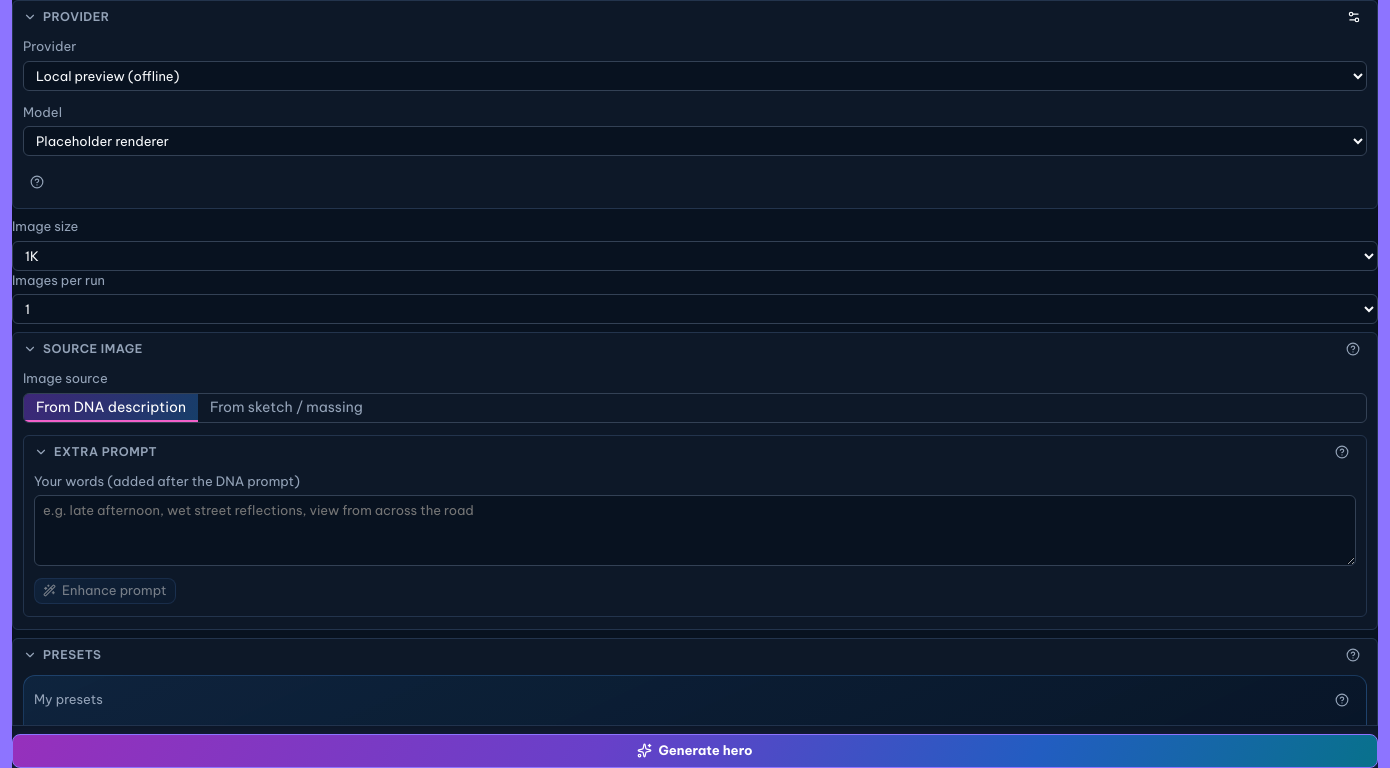
uses text-only DNA, and shows image import and SketchUp only for the image source
expect the text box is shown: met, box x1=34 y1=495 x2=1356 y2=566
expect the button "Import sketch" is not shown: met
What coordinates should you click on to do the following:
click the button "From sketch / massing"
I would click on:
 (286, 408)
Its box is x1=198 y1=394 x2=375 y2=422.
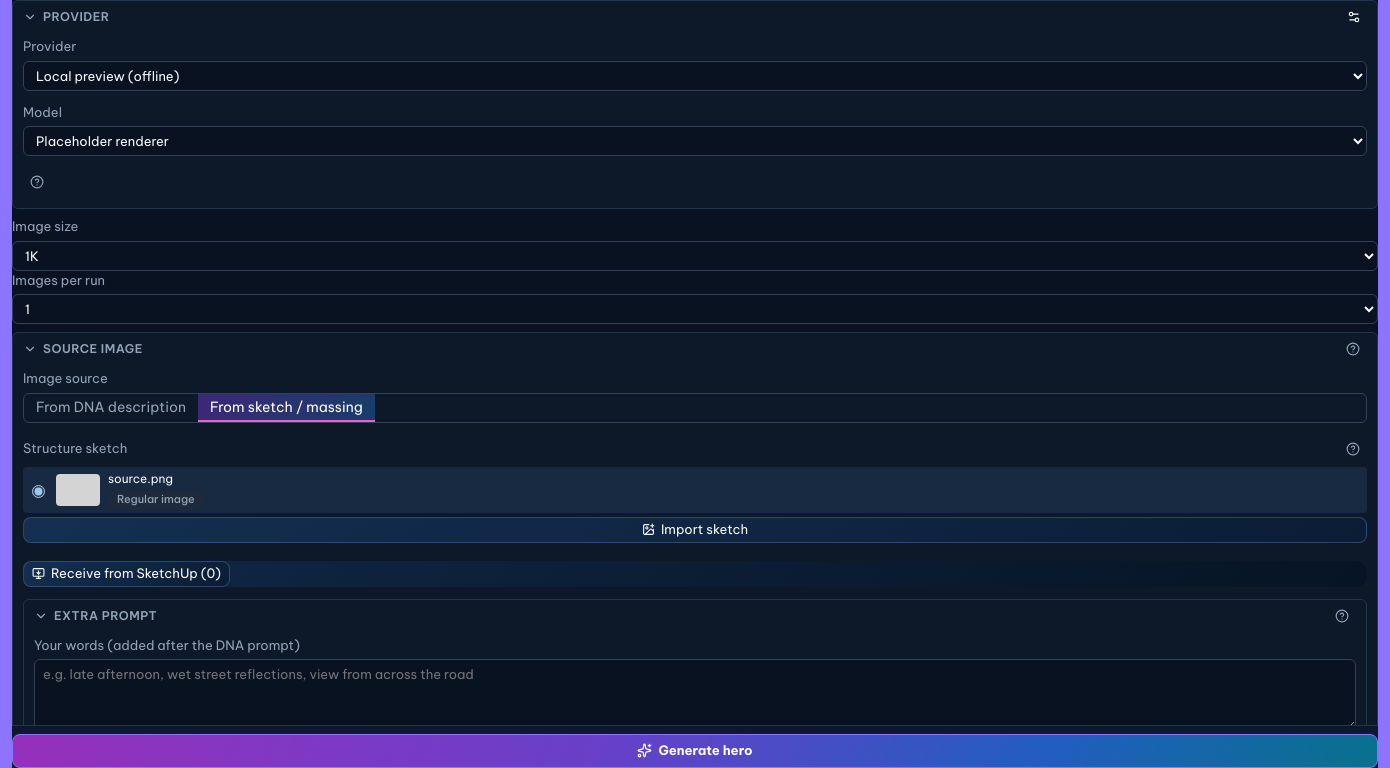
expect the text box is shown: met, box x1=34 y1=659 x2=1356 y2=730
expect the button "Import sketch" is shown: met, box x1=23 y1=516 x2=1367 y2=542
